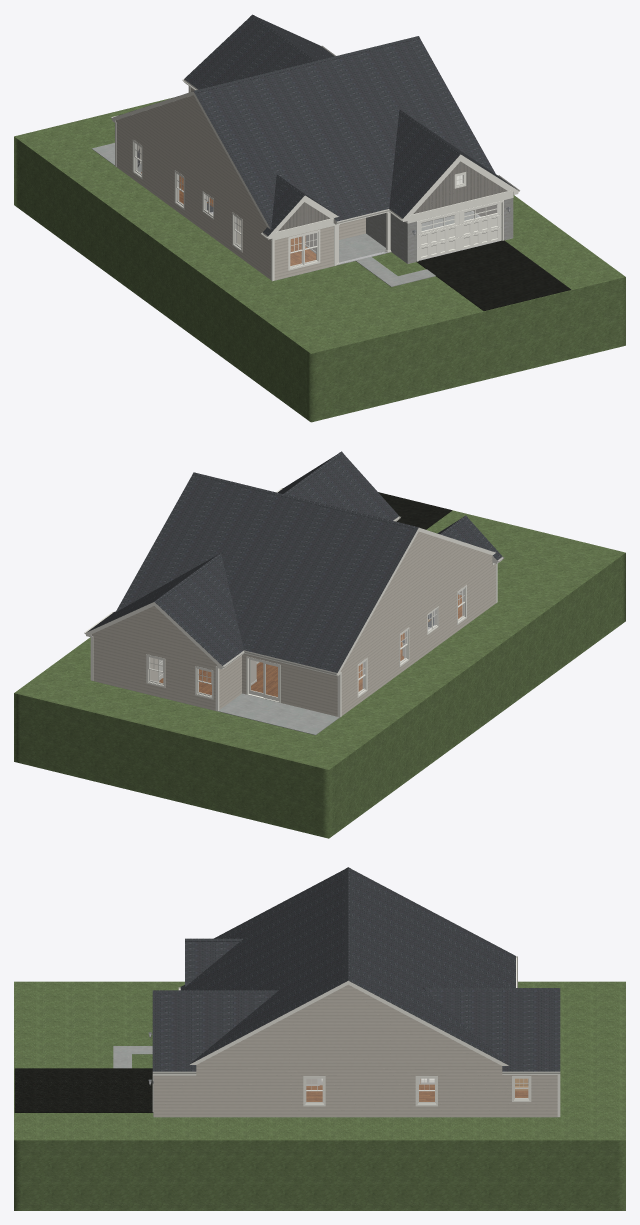
Rendered from house.dae.
3 renders of one model, top to bottom at view 1: azimuth 30°, elevation 25°; view 2: azimuth 150°, elevation 25°; view 3: azimuth 270°, elevation 25°, orthographic. The views are drawn at different scales.
Visible parts, largest first — view 1: geo_188, geo_131, geo_143, geo_11, geo_190, geo_158, geo_177, geo_159, geo_127, geo_150, geo_71, geo_61; view 2: geo_188, geo_131, geo_143, geo_11, geo_177, geo_127, geo_190, geo_71; view 3: geo_188, geo_131, geo_143, geo_190, geo_11, geo_127, geo_71, geo_177.
Part boxes in pixels (<box>): geo_188: <box>14,97,625,422</box>; geo_131: <box>184,14,516,235</box>; geo_143: <box>115,87,365,280</box>; geo_11: <box>111,45,519,281</box>; geo_190: <box>416,240,571,310</box>; geo_158: <box>278,161,507,231</box>; geo_177: <box>91,143,478,286</box>; geo_159: <box>366,198,513,263</box>; geo_127: <box>135,143,496,265</box>; geo_150: <box>270,190,513,240</box>; geo_71: <box>141,172,316,265</box>; geo_61: <box>339,241,384,262</box>; geo_188: <box>14,510,625,838</box>; geo_131: <box>86,451,502,672</box>; geo_143: <box>91,531,495,716</box>; geo_11: <box>84,488,504,717</box>; geo_177: <box>218,693,339,735</box>; geo_127: <box>149,589,464,696</box>; geo_190: <box>378,492,452,529</box>; geo_71: <box>159,594,462,696</box>; geo_188: <box>14,981,625,1210</box>; geo_131: <box>152,867,560,1071</box>; geo_143: <box>153,984,557,1116</box>; geo_190: <box>14,1068,153,1112</box>; geo_11: <box>152,956,560,1116</box>; geo_127: <box>306,1079,527,1101</box>; geo_71: <box>306,1079,528,1101</box>; geo_177: <box>113,1046,152,1068</box>.
Size of the model in its own units: 720 by 1176 by 441.
54 materials, 27 textured.
